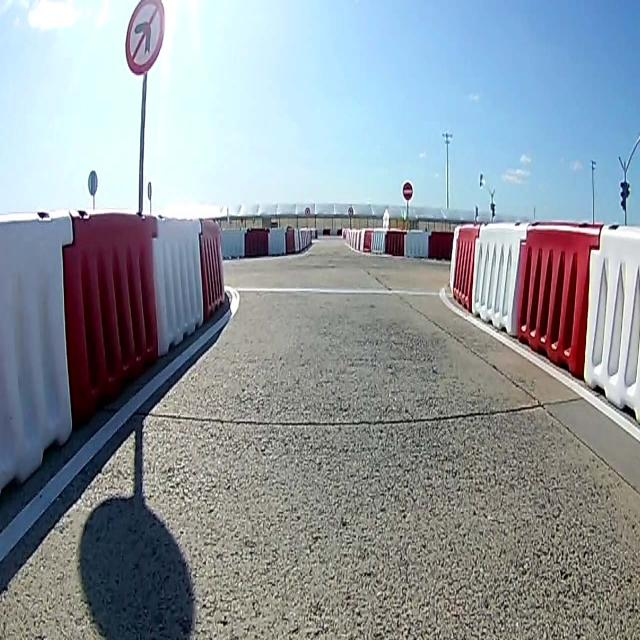girisyok: (403, 182, 413, 201)
soladonulmez: (125, 1, 165, 75)
